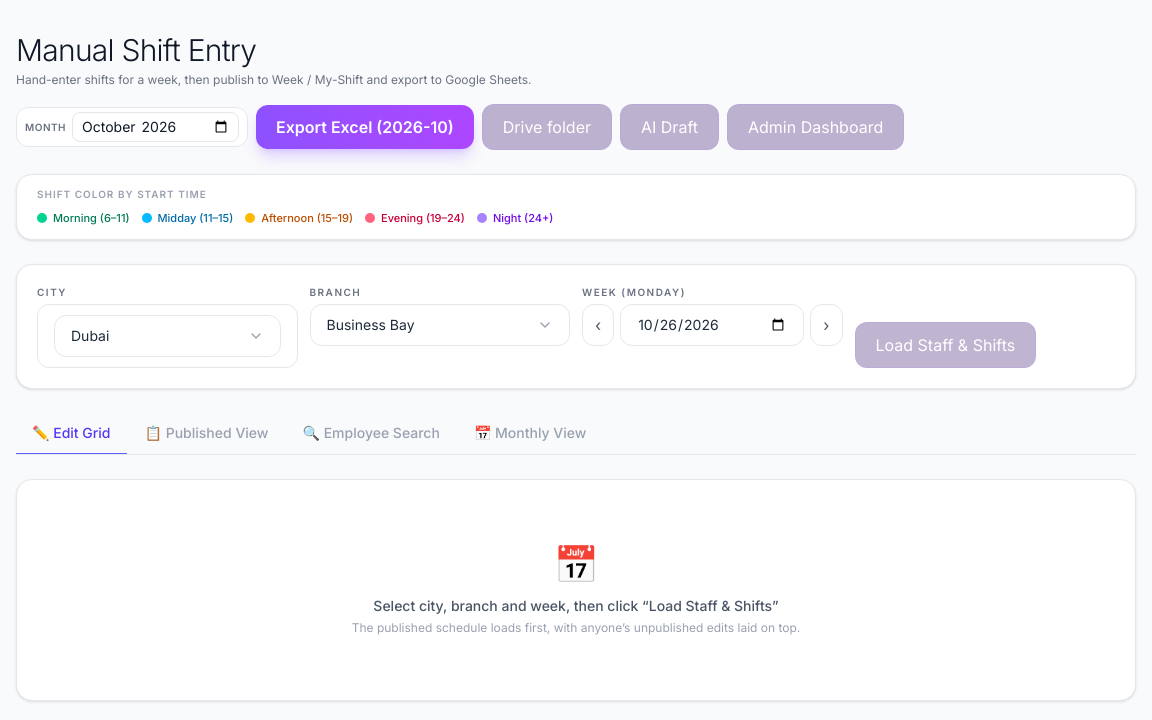
Scenario: ManualShiftPage — city selector › switching city to Manila resets to first Manila branch (Paranaque)
Click the dropdown: (167, 336) [54,314,280,356]
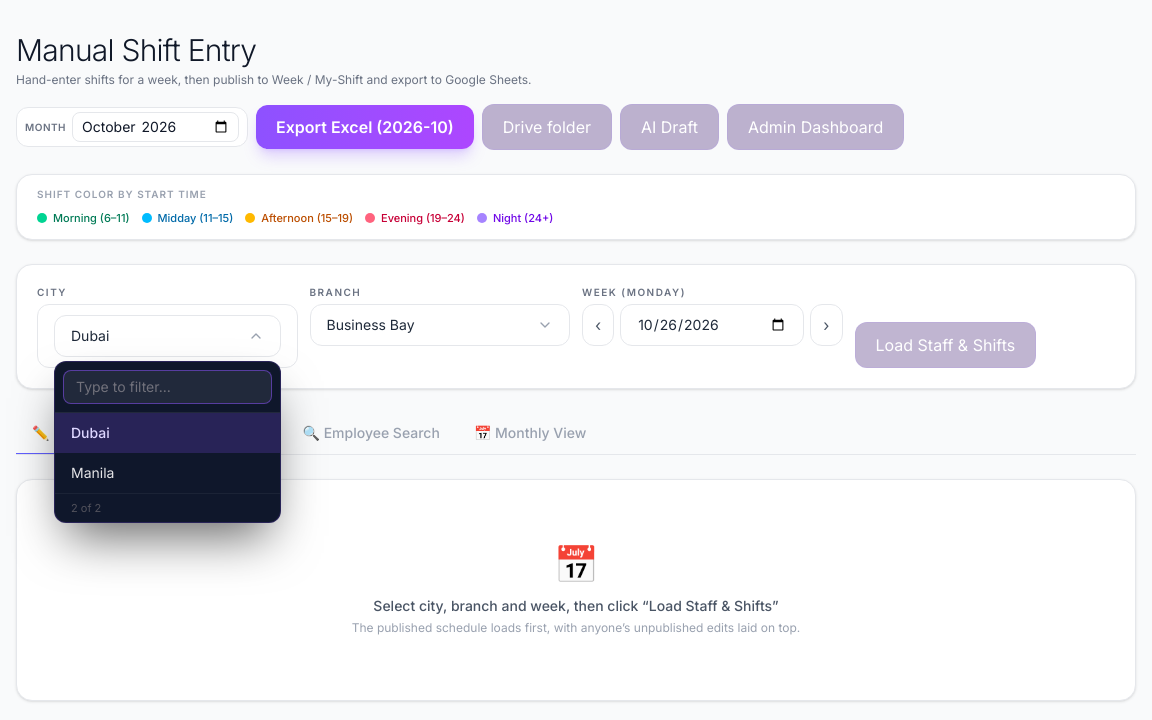
Click the option "Manila": (167, 472) [55,452,280,492]
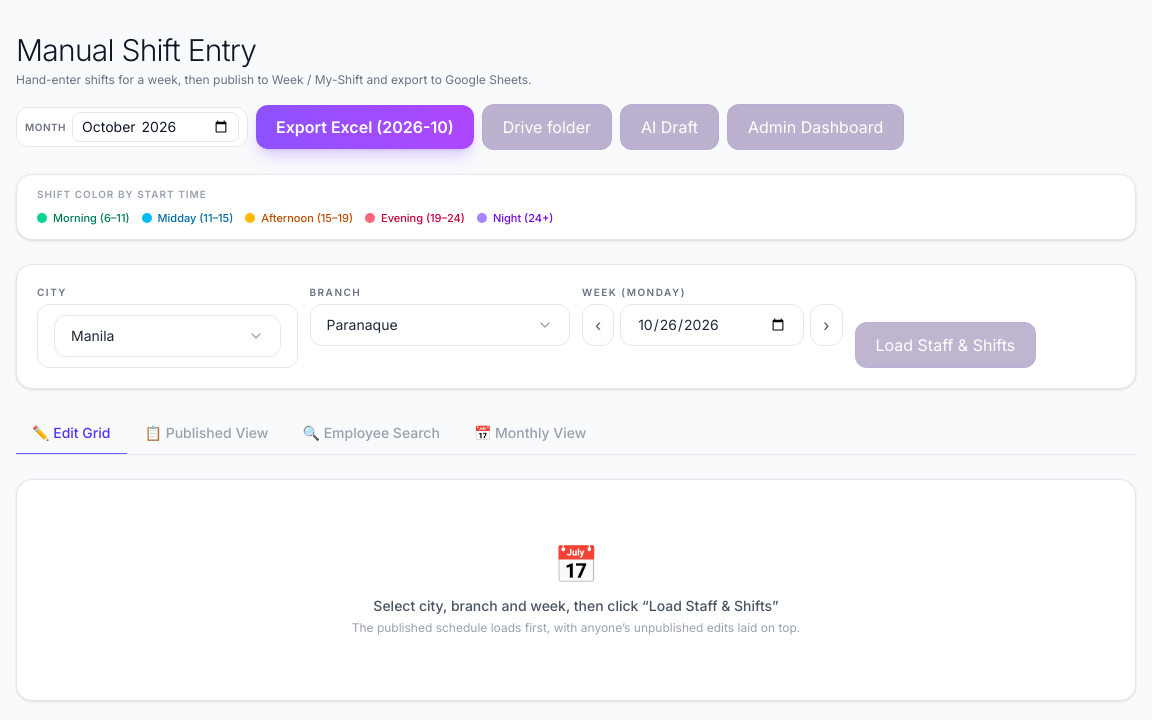
Expected: the text "Paranaque" is shown, [326,314,398,334]
